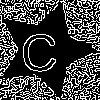C: (20, 25, 59, 72)
